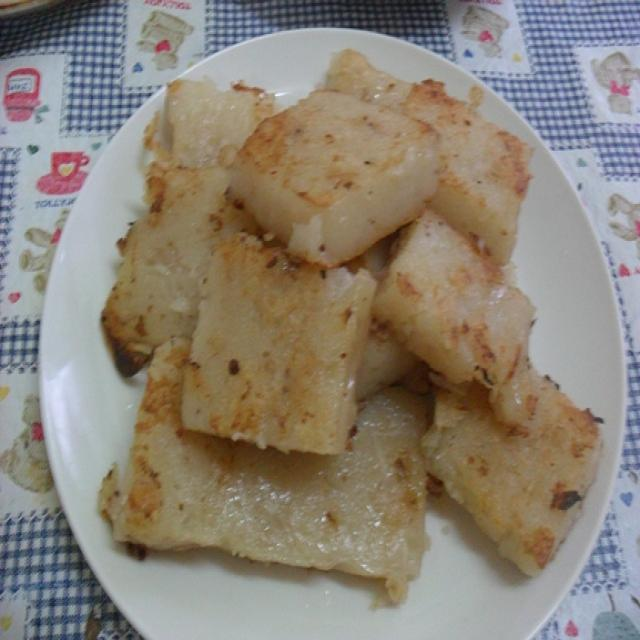蛋糕甜品: (38, 41, 591, 621)
